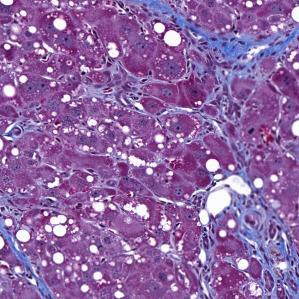fibrosis: (155, 5, 288, 72), (221, 188, 298, 281), (194, 92, 247, 143)
